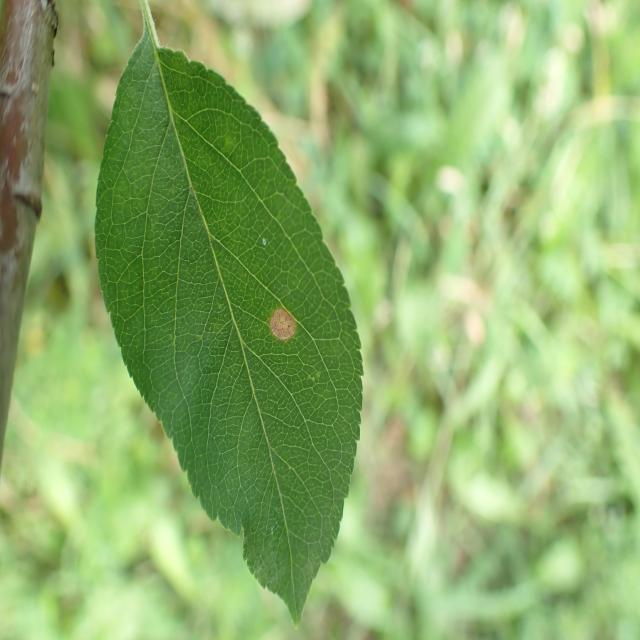Black Rot: (262, 294, 308, 366)
